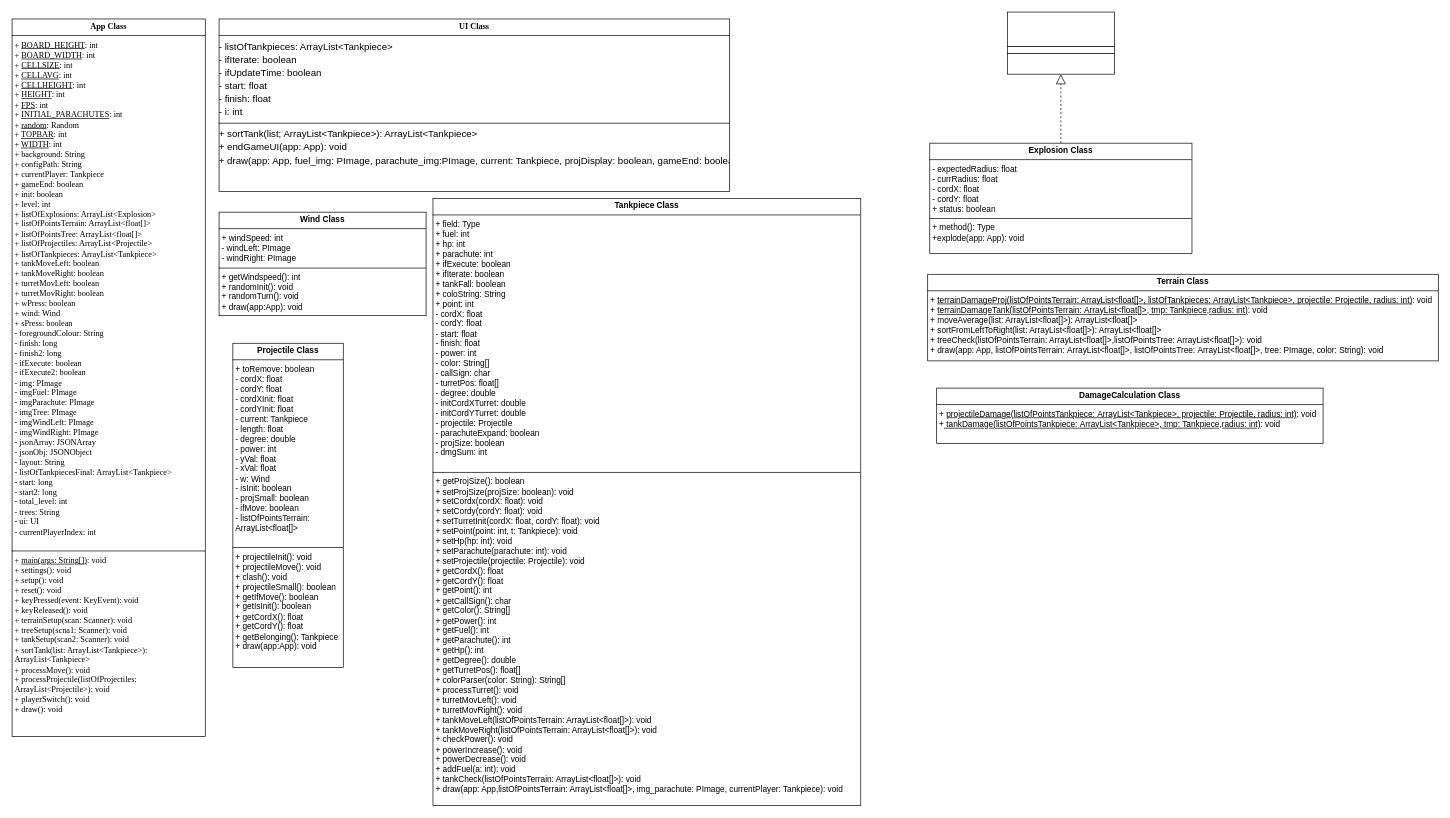
The diagram is 1450 pixels wide and 818 high, and some of its shapes have lost their labels. Each missing label, with the box of its shape:
+ explode(app: App): void: (1007, 53, 1114, 74)
«interface» ExplosionInterface: (1007, 11, 1114, 47)
